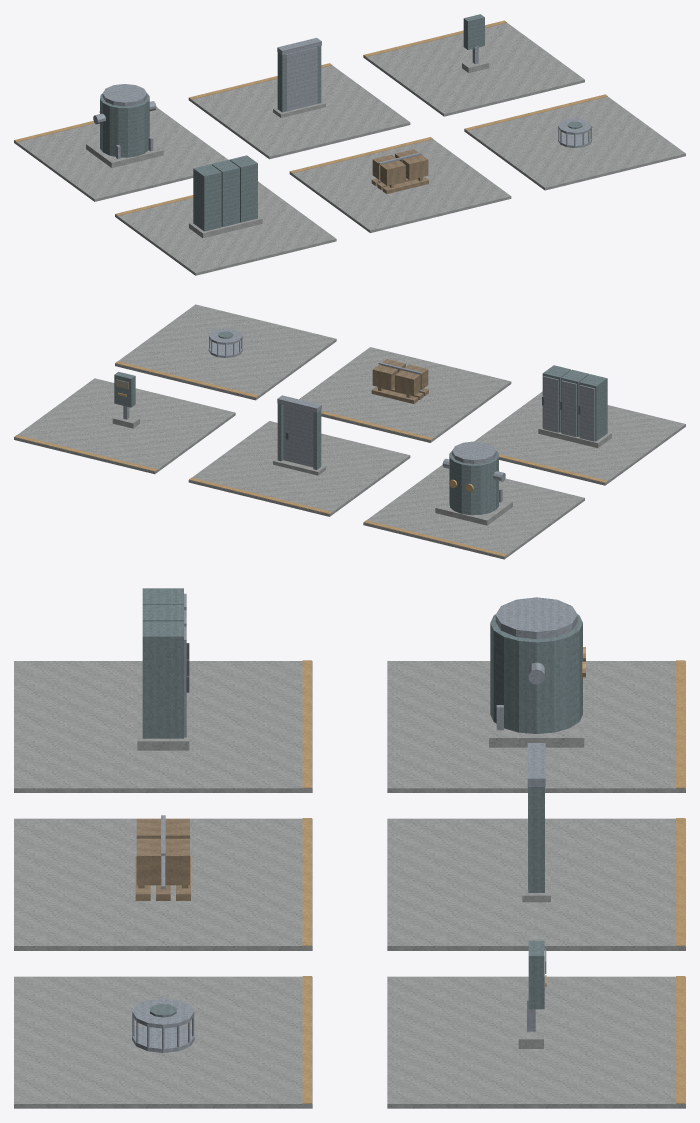
The model's file is level_blockout_kit_wld_13_p03.glb.
3 renders of one model, top to bottom at view 1: azimuth 30°, elevation 25°; view 2: azimuth 150°, elevation 25°; view 3: azimuth 270°, elevation 25°, orthographic. The views are drawn at different scales.
Visible parts, largest first — view 1: level_blockout_kit_wld_13_p03; view 2: level_blockout_kit_wld_13_p03; view 3: level_blockout_kit_wld_13_p03.
Part boxes in pixels (box(x1,y1,x2,y2)): level_blockout_kit_wld_13_p03: box(14, 14, 685, 275); level_blockout_kit_wld_13_p03: box(14, 304, 685, 559); level_blockout_kit_wld_13_p03: box(14, 588, 685, 1108).
Size of the model in its own units: 19.65 by 2.62 by 12.6.
Materials: 7 (7 with a texture image).
